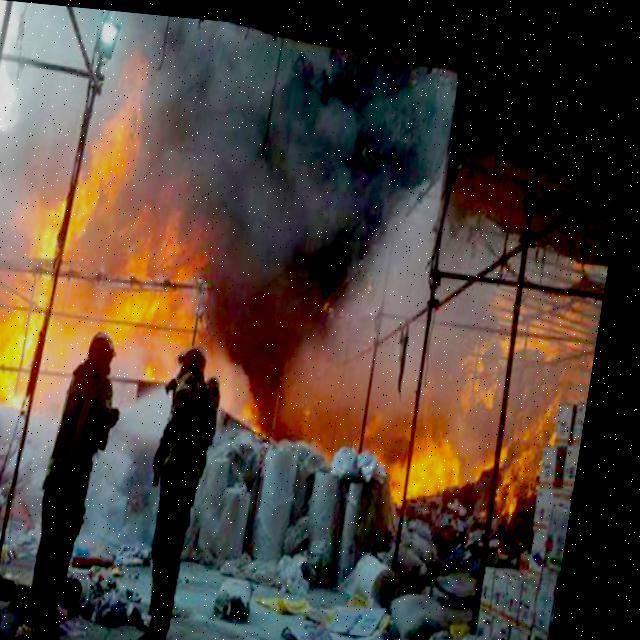Fire: (0, 88, 244, 432), (402, 251, 612, 534)
